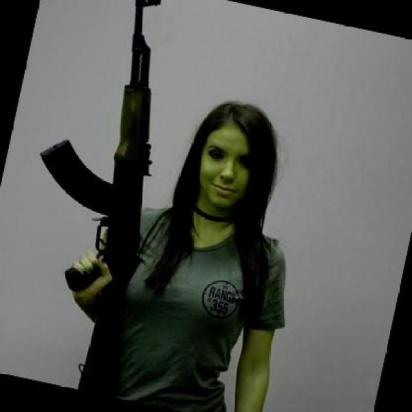Gun: (0, 0, 210, 399)
